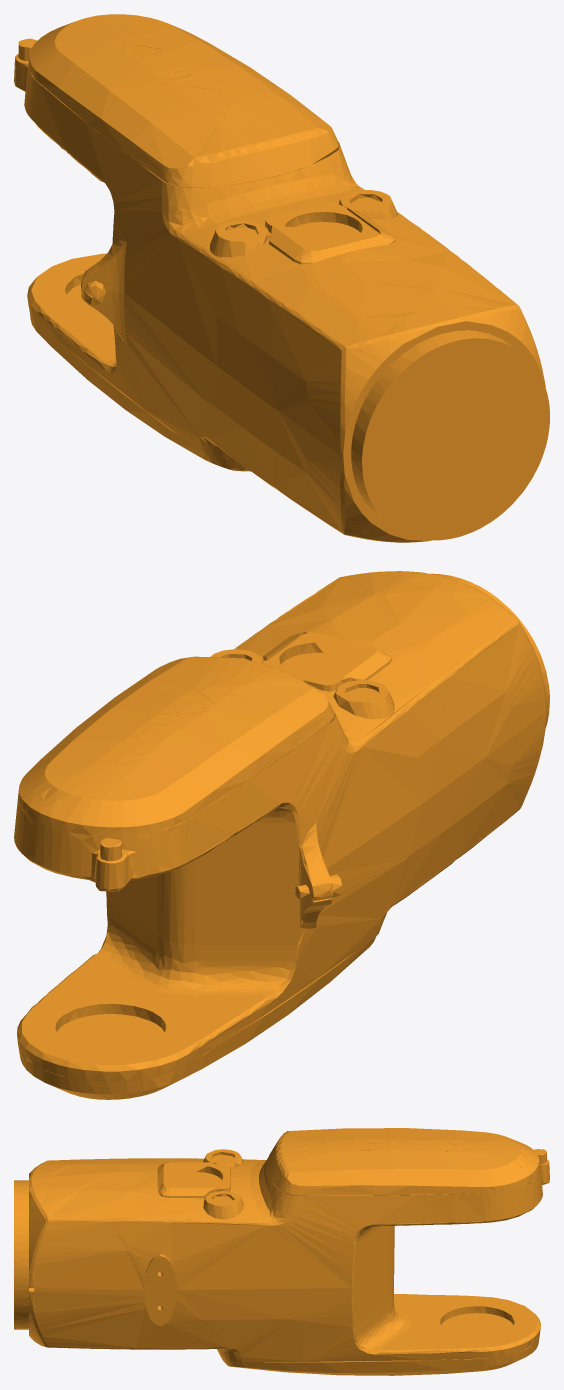
Rendered from KukaKR10Link4.dae.
The picture shows the model from 3 angles, top to bottom: view 1: azimuth 30°, elevation 25°; view 2: azimuth 150°, elevation 25°; view 3: azimuth 270°, elevation 25°; orthographic projection. The views are drawn at different scales.
Parts seen in each view (by area): view 1: KR10Link4; view 2: KR10Link4; view 3: KR10Link4.
Boxes of the visible parts, x1=… form: KR10Link4: x1=14, y1=14, x2=549, y2=542; KR10Link4: x1=14, y1=571, x2=549, y2=1099; KR10Link4: x1=14, y1=1128, x2=549, y2=1375.
Size of the model in its own units: 0.1268 by 0.3585 by 0.1595.
